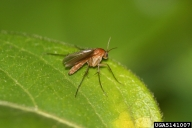Fruit fly: (59, 38, 118, 89)
